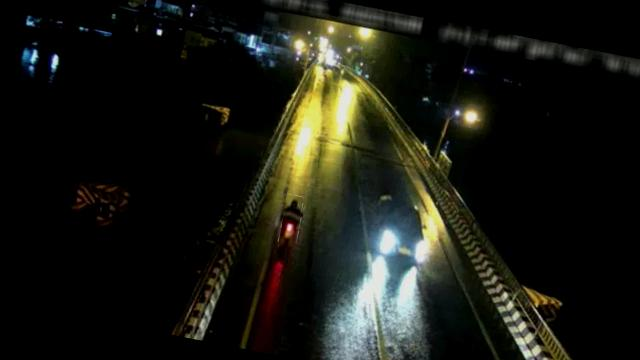Bike: (276, 194, 305, 250)
